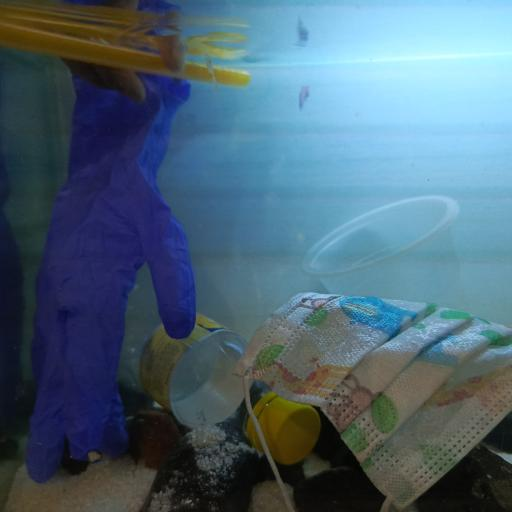bottle_cap: (263, 390, 318, 464)
glove: (29, 74, 197, 482)
mask: (237, 288, 512, 512)
plastic_bottle: (119, 272, 321, 466)
plastic_straw: (299, 193, 466, 310), (1, 22, 253, 85)
